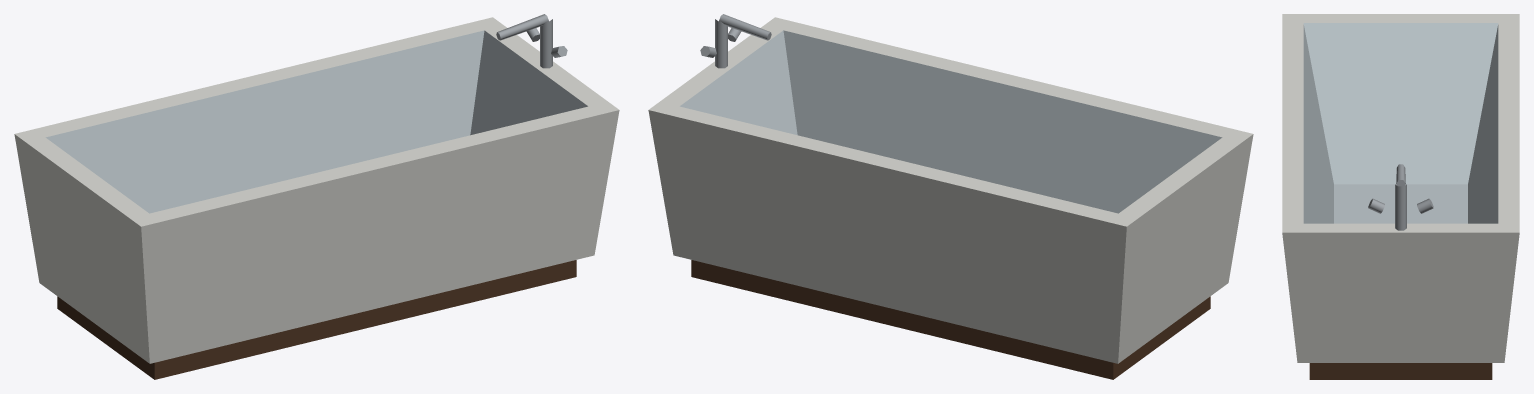
File: bathtub.glb
3 renders of one model, left to right at view 1: azimuth 30°, elevation 25°; view 2: azimuth 150°, elevation 25°; view 3: azimuth 270°, elevation 25°, orthographic. The views are drawn at different scales.
Visible parts, largest first — view 1: Bath; view 2: Bath; view 3: Bath.
Boxes of the visible parts, <box> form: Bath: <box>14,14,619,379</box>; Bath: <box>648,14,1253,379</box>; Bath: <box>1282,14,1519,379</box>.
Size of the model in its own units: 1.7 by 0.7538 by 0.78.
1 material, 1 textured.
